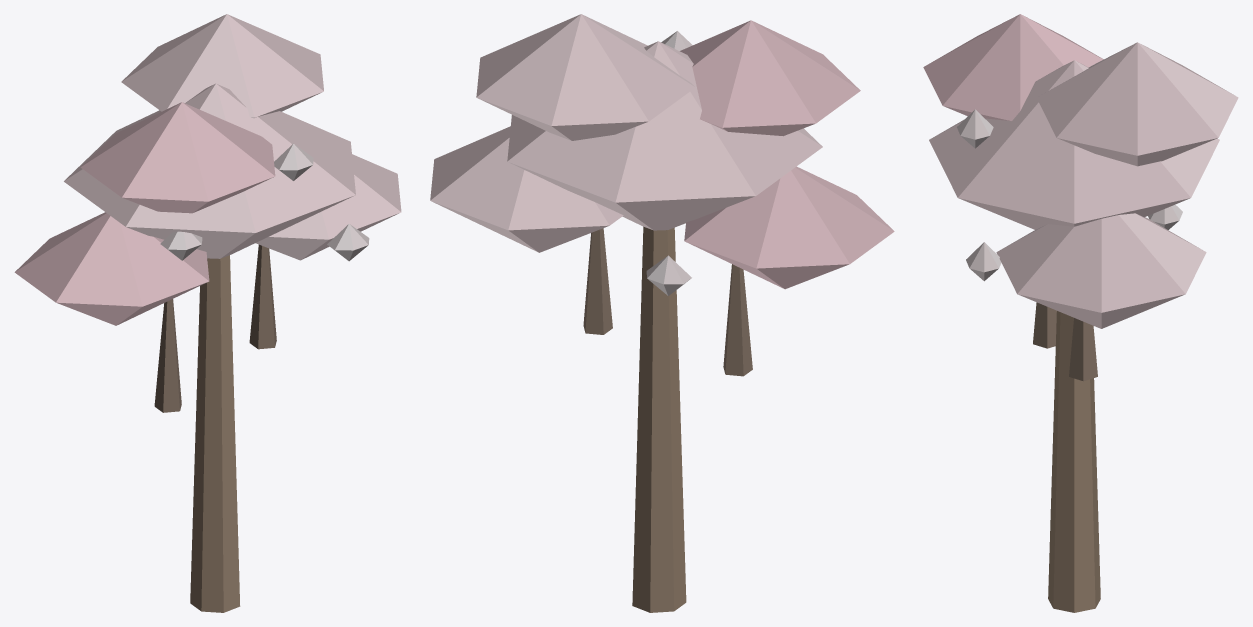
The model's file is flowering.glb.
The picture shows the model from 3 angles, left to right: view 1: azimuth 30°, elevation 25°; view 2: azimuth 150°, elevation 25°; view 3: azimuth 270°, elevation 25°; orthographic projection. The views are drawn at different scales.
Visible parts, largest first — view 1: 花霞の枝葉, 曲枝・淡樹皮; view 2: 花霞の枝葉, 曲枝・淡樹皮; view 3: 花霞の枝葉, 曲枝・淡樹皮.
Boxes of the visible parts, <box> form: 花霞の枝葉: <box>14,14,401,325</box>; 曲枝・淡樹皮: <box>154,244,276,612</box>; 花霞の枝葉: <box>430,14,894,295</box>; 曲枝・淡樹皮: <box>583,226,752,612</box>; 花霞の枝葉: <box>923,14,1238,328</box>; 曲枝・淡樹皮: <box>1033,302,1100,612</box>.
Bounding box in the file's own units: 5.13 × 7.1 × 3.5.
